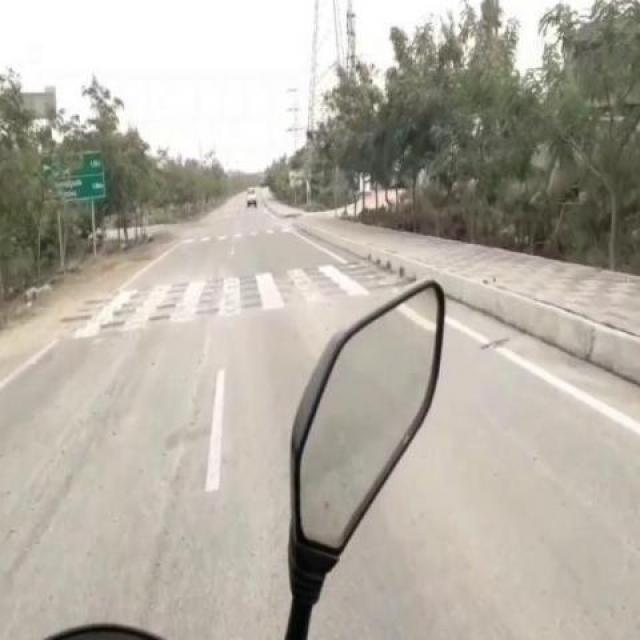Speed Bump: (60, 260, 362, 324), (175, 224, 296, 244)
